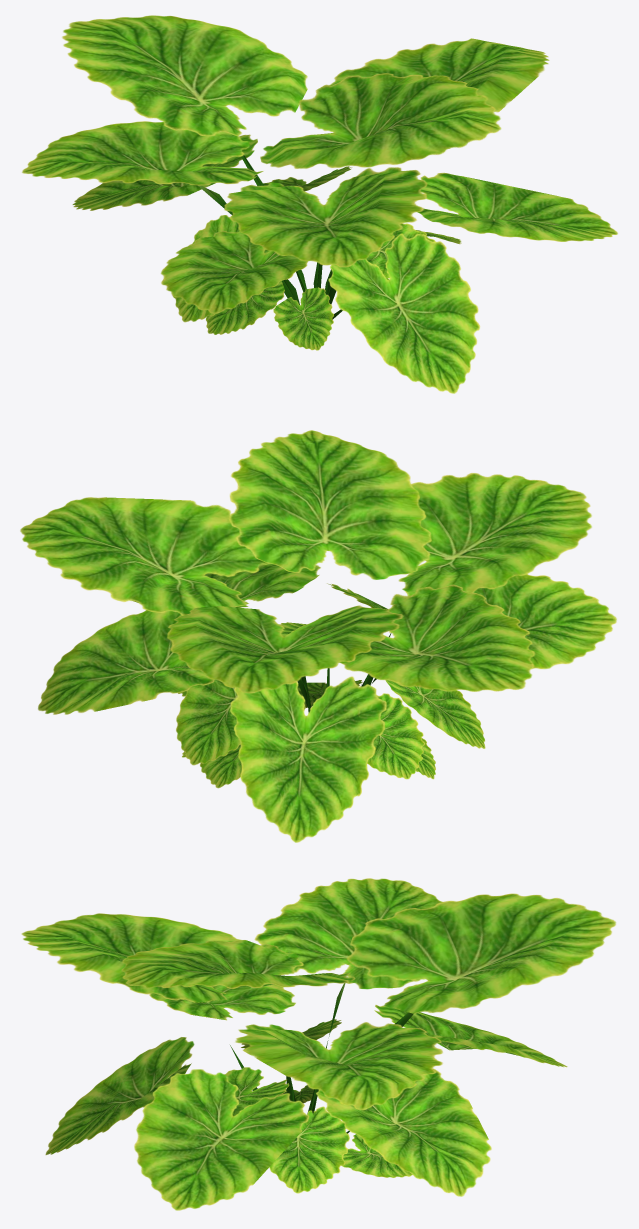
File: elephant-ear.lod0.glb
The picture shows the model from 3 angles, top to bottom: view 1: azimuth 30°, elevation 25°; view 2: azimuth 150°, elevation 25°; view 3: azimuth 270°, elevation 25°; orthographic projection. The views are drawn at different scales.
Visible parts, largest first — view 1: Object_2; view 2: Object_2; view 3: Object_2.
Part boxes in pixels (x1=…): Object_2: x1=22, y1=15, x2=617, y2=393; Object_2: x1=20, y1=430, x2=616, y2=842; Object_2: x1=21, y1=878, x2=615, y2=1210.
Size of the model in its own units: 3.94 by 1.8 by 4.07.
1 material, 1 textured.
